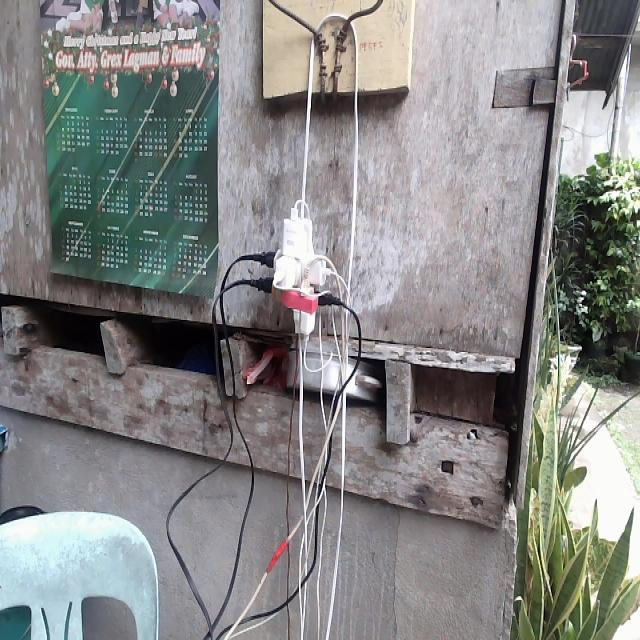-: (260, 210, 327, 334)
